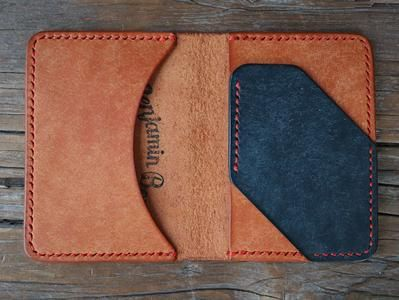cuero: (24, 29, 375, 263)
